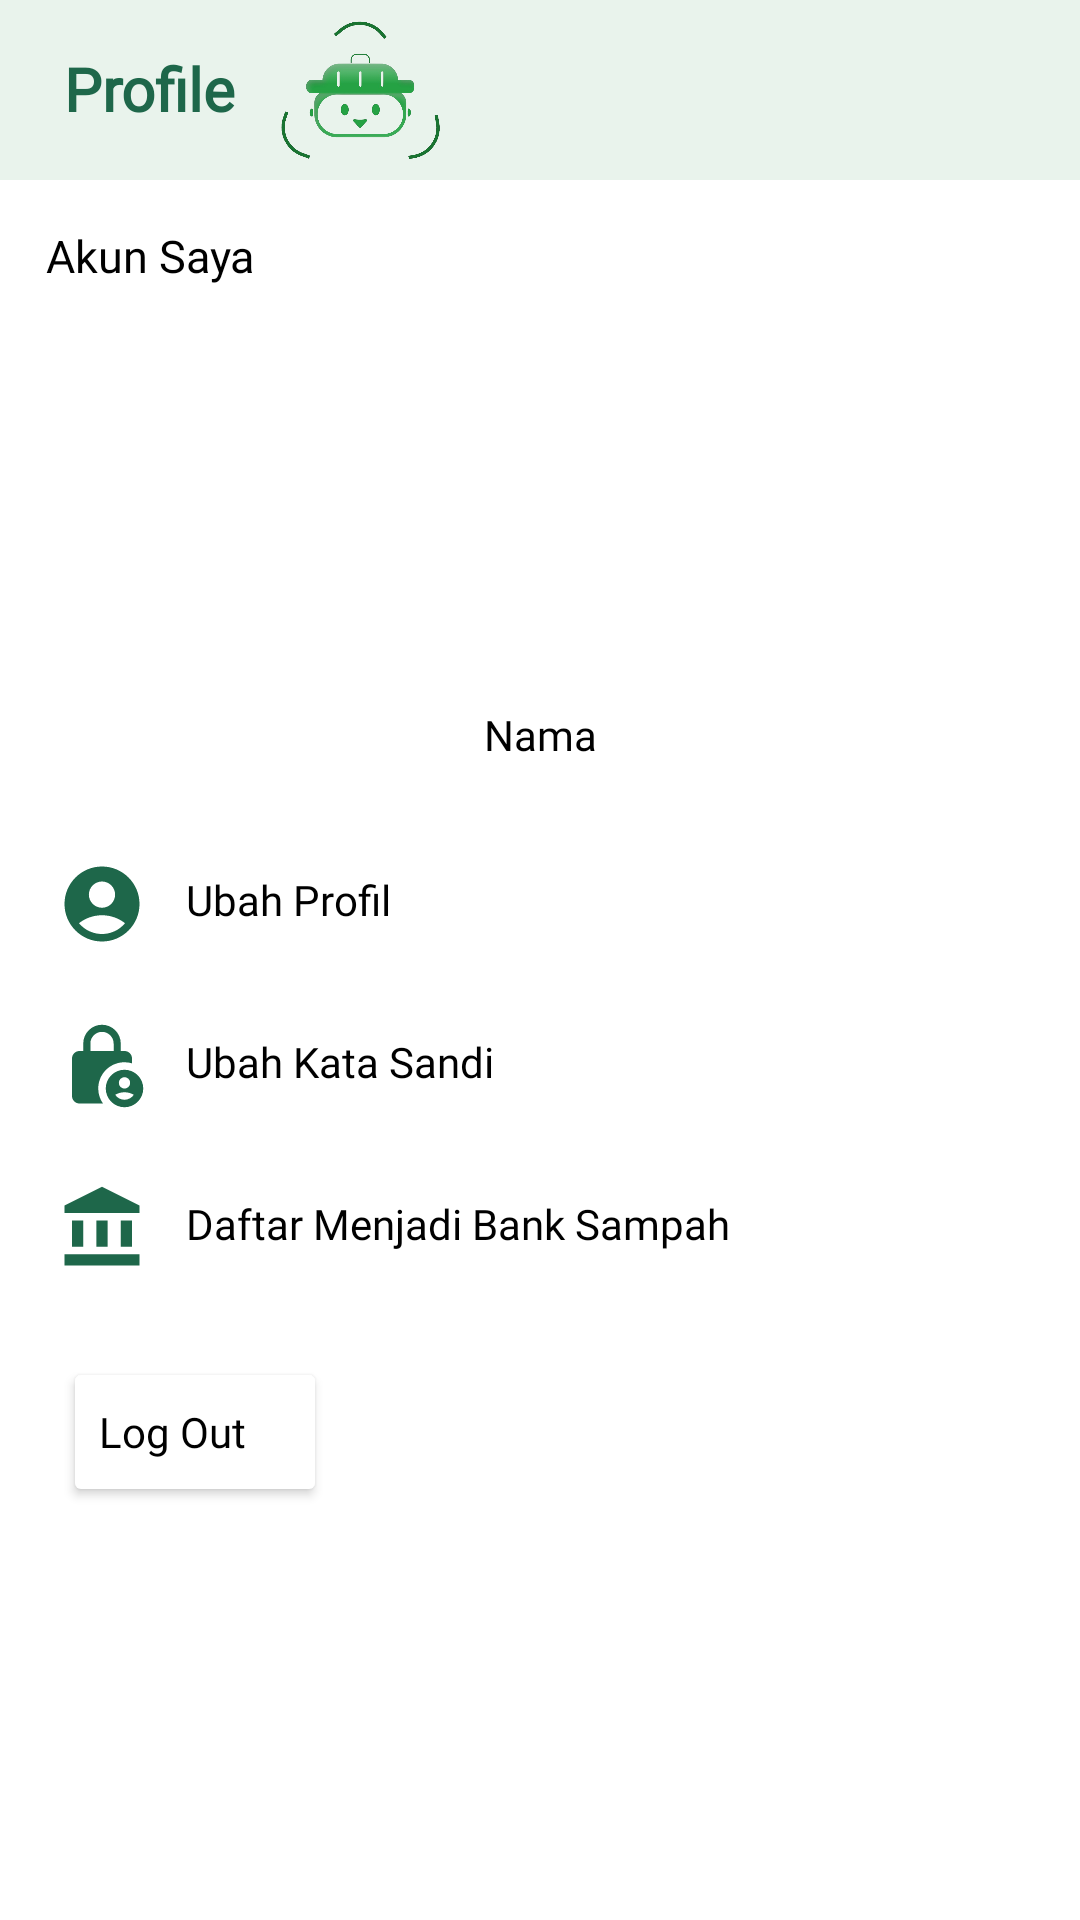

Icons on this 1080×1920 Android screen, each with the point to tap as point (x, y):
account: point (102, 904)
lock: point (108, 1066)
